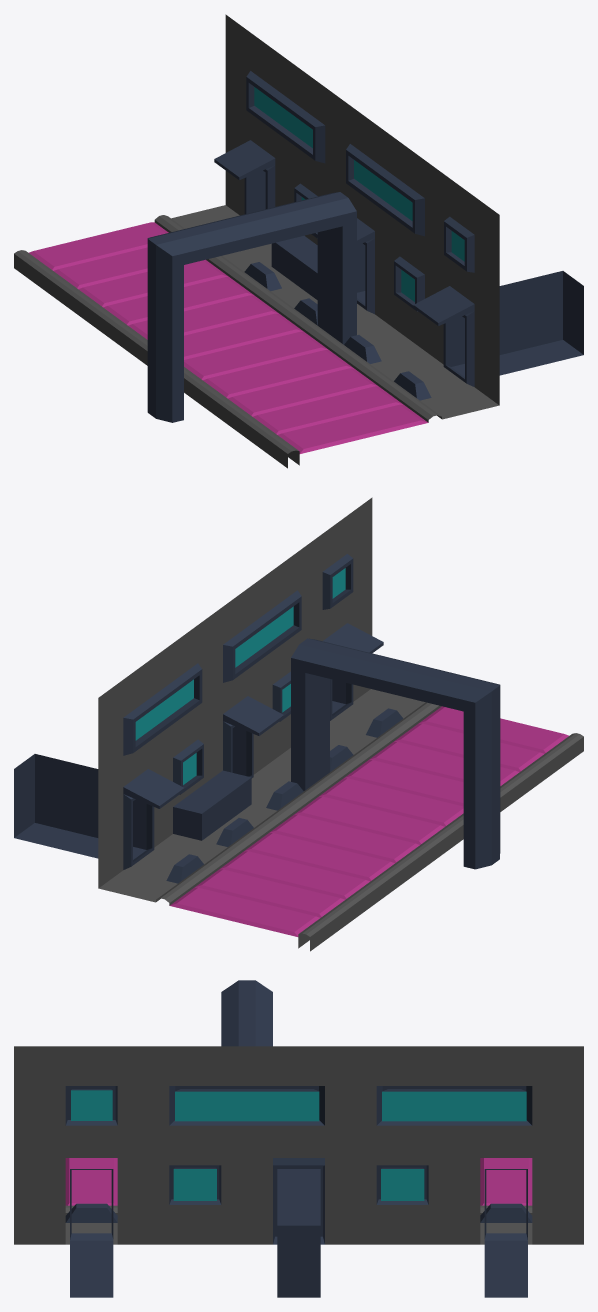
The model's file is road4.fbx.
3 views of the same model, one above another, from view 1: azimuth 30°, elevation 25°; view 2: azimuth 150°, elevation 25°; view 3: azimuth 270°, elevation 25° (orthographic). The views are drawn at different scales.
Parts seen in each view (by area): view 1: base.001; view 2: base.001; view 3: base.001.
Boxes of the visible parts, left/top/right/bottom form: base.001: left=14, top=14, right=583, bottom=468; base.001: left=14, top=497, right=583, bottom=951; base.001: left=14, top=980, right=583, bottom=1297.
Size of the model in its own units: 1776 by 1103 by 2429.
